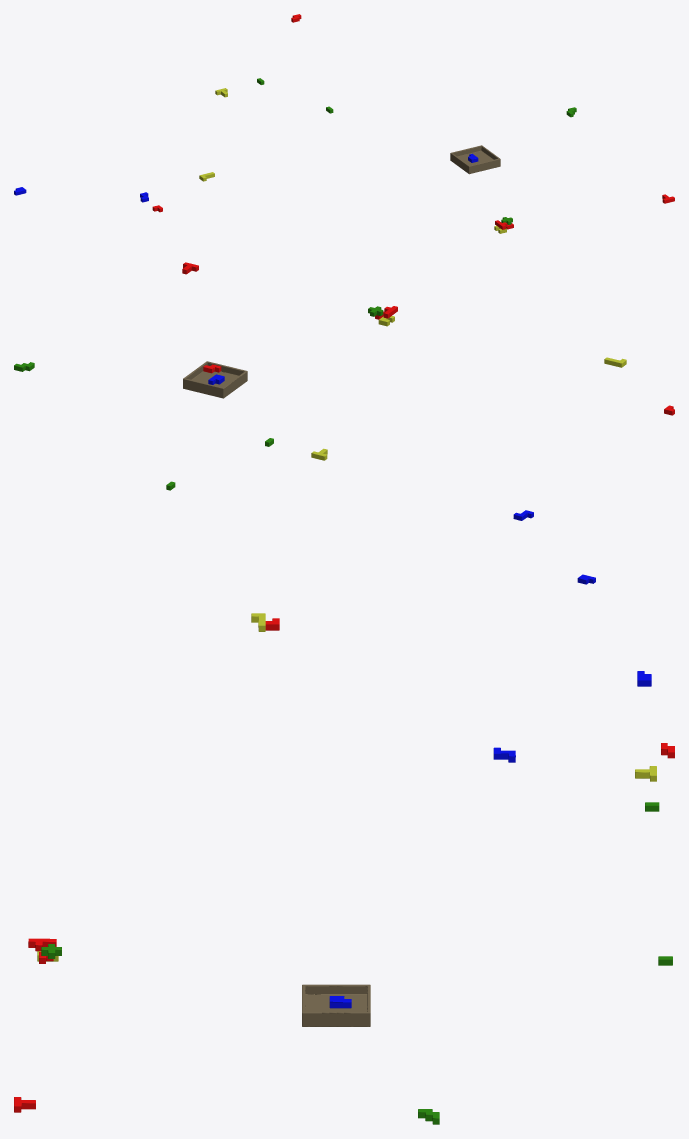
The model's file is puzzleStanzapuzzle.fbx.
The picture shows the model from 3 angles, top to bottom: view 1: azimuth 30°, elevation 25°; view 2: azimuth 150°, elevation 25°; view 3: azimuth 270°, elevation 25°; orthographic projection. The views are drawn at different scales.
Visible parts, largest first — view 1: pCube1; view 2: pCube1; view 3: pCube1.
Boxes of the visible parts, bbox=[...] form: pCube1: bbox=[450, 145, 500, 174]; pCube1: bbox=[183, 361, 247, 398]; pCube1: bbox=[302, 984, 370, 1026].
Size of the model in its own units: 737 by 143 by 457.
